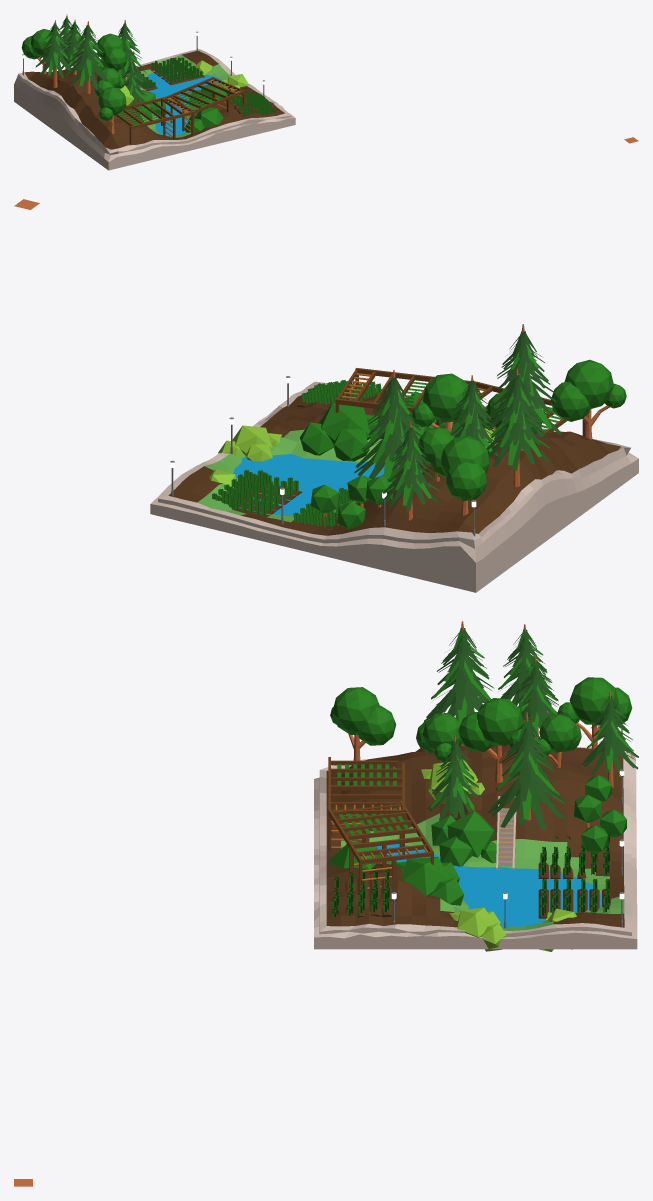
Rendered from solution_8_green_park.fbx.
3 views of the same model, one above another, from view 1: azimuth 30°, elevation 25°; view 2: azimuth 150°, elevation 25°; view 3: azimuth 270°, elevation 25° (orthographic). The views are drawn at different scales.
Parts seen in each view (by area): view 1: solution_8_green_park; view 2: solution_8_green_park; view 3: solution_8_green_park.
Boxes of the visible parts, bbox=[...] form: solution_8_green_park: bbox=[14, 14, 638, 170]; solution_8_green_park: bbox=[14, 199, 638, 592]; solution_8_green_park: bbox=[14, 621, 638, 1186].
Size of the model in its own units: 9434 by 2524 by 6626.
